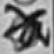not correct: (2, 1, 51, 52)
